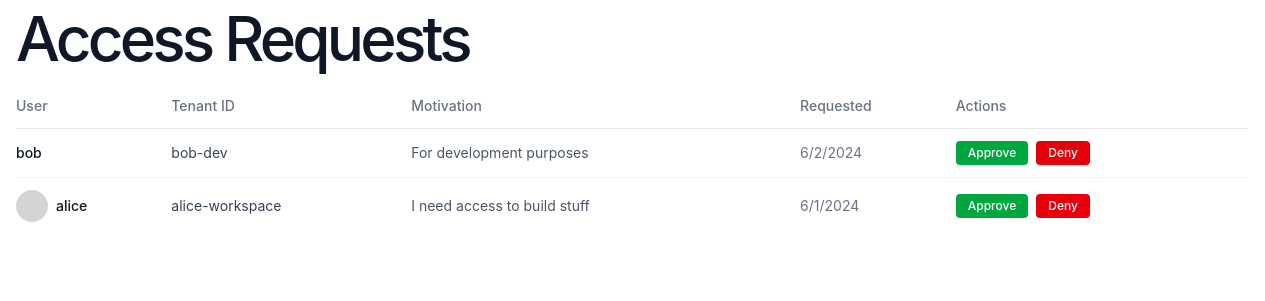
Test case: AccessRequests Page › permission errors (403) vs server faults › keeps the generic approve message for a server fault
Expected: the text "bob" is shown, x1=16 y1=143 x2=42 y2=163
What coordinates should you click on to do the following:
click the button "Approve" in the row of "bob-dev"
I would click on:
 (992, 153)
Its box is x1=956 y1=141 x2=1028 y2=165.
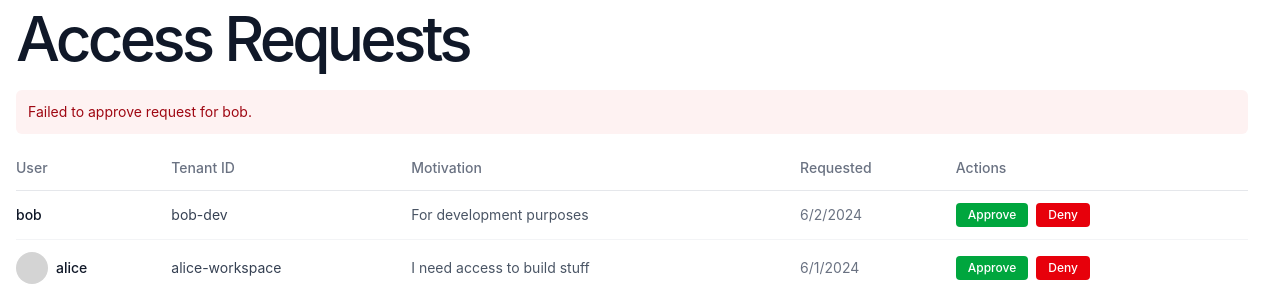
Expected: the message shows "Failed to approve request", x1=28 y1=103 x2=252 y2=120
